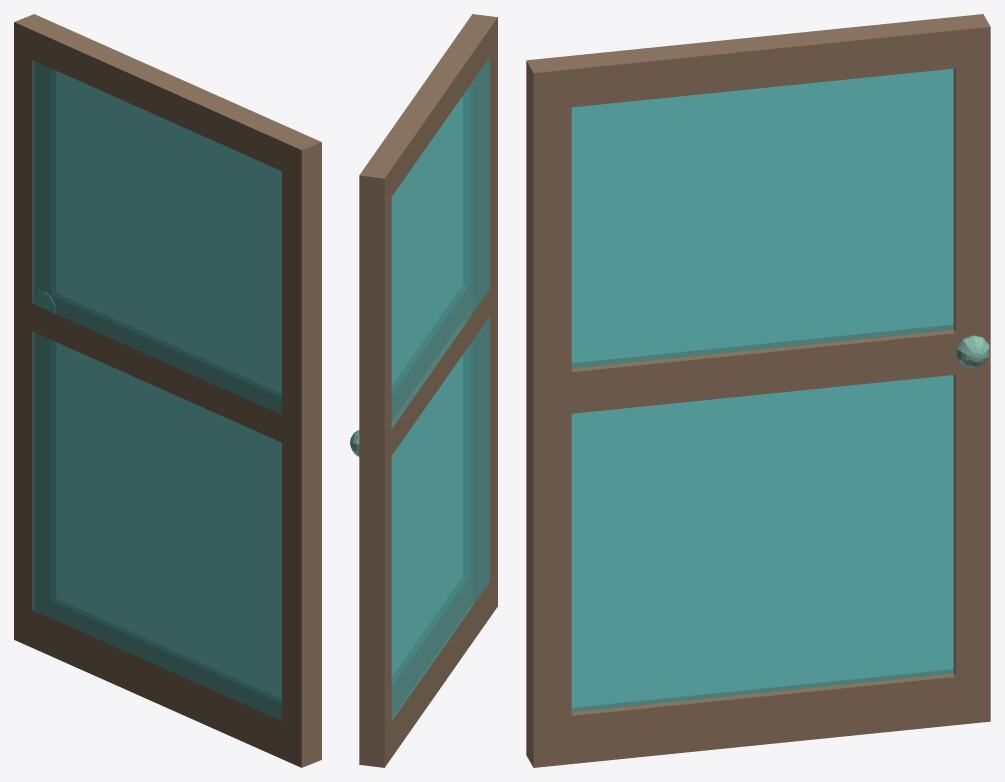
The model's file is classroomdoorcolor.fbx.
The picture shows the model from 3 angles, left to right: view 1: azimuth 30°, elevation 25°; view 2: azimuth 150°, elevation 25°; view 3: azimuth 270°, elevation 25°; orthographic projection. The views are drawn at different scales.
Parts seen in each view (by area): view 1: polySurface32; view 2: polySurface32; view 3: polySurface32.
Part boxes in pixels (x1,y1,x2,y2): polySurface32: [14, 14, 321, 767]; polySurface32: [350, 14, 497, 767]; polySurface32: [526, 14, 990, 767].
Bounding box in the file's own units: 1.53 × 8.35 × 5.06.
